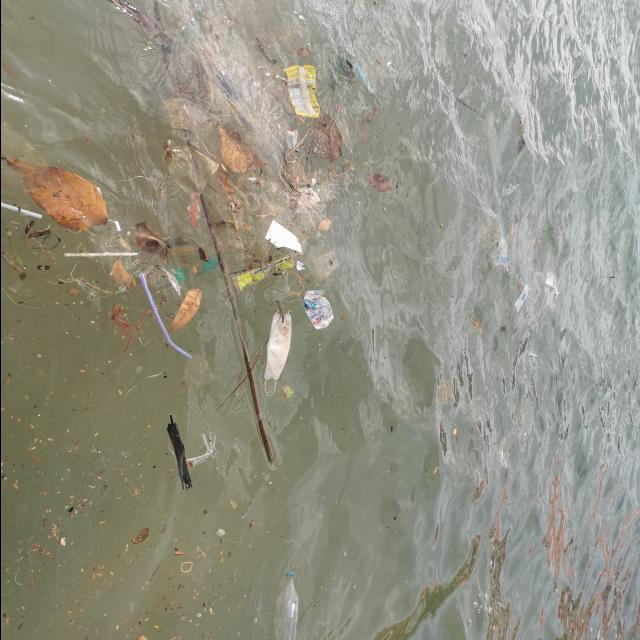plastic bottle: (273, 573, 299, 640)
